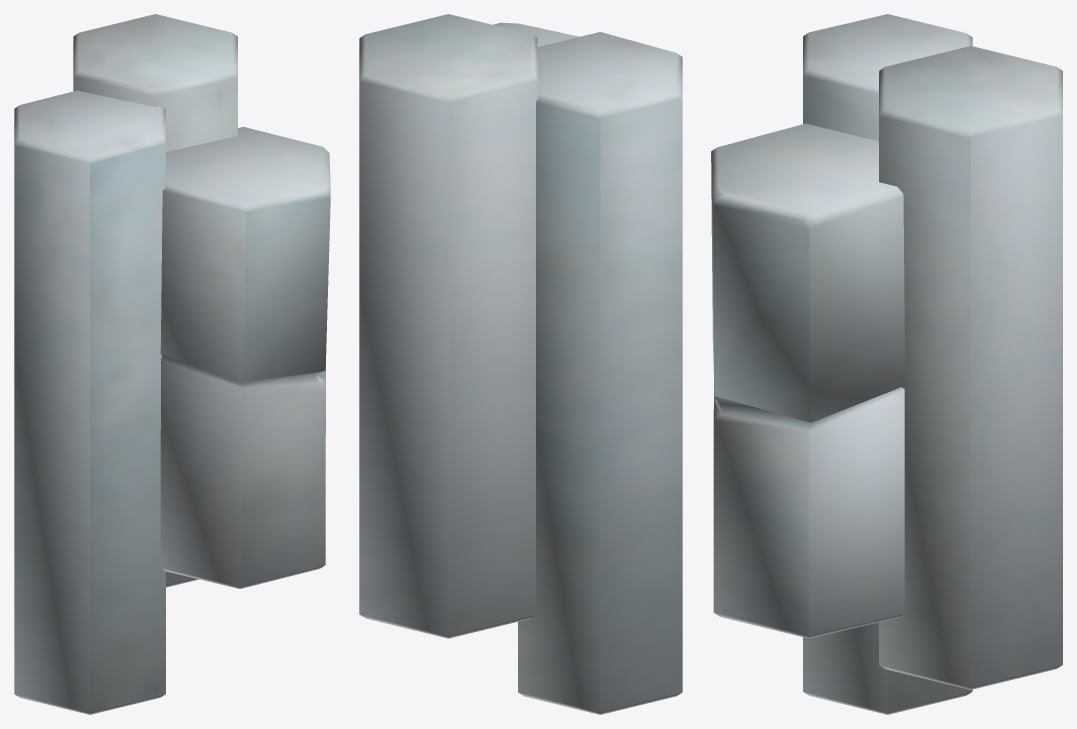
File: P_RockHexic_Rocks02.obj
The picture shows the model from 3 angles, left to right: view 1: azimuth 30°, elevation 25°; view 2: azimuth 150°, elevation 25°; view 3: azimuth 270°, elevation 25°; orthographic projection. The views are drawn at different scales.
Size of the model in its own units: 6.95 by 13.69 by 6.77.
